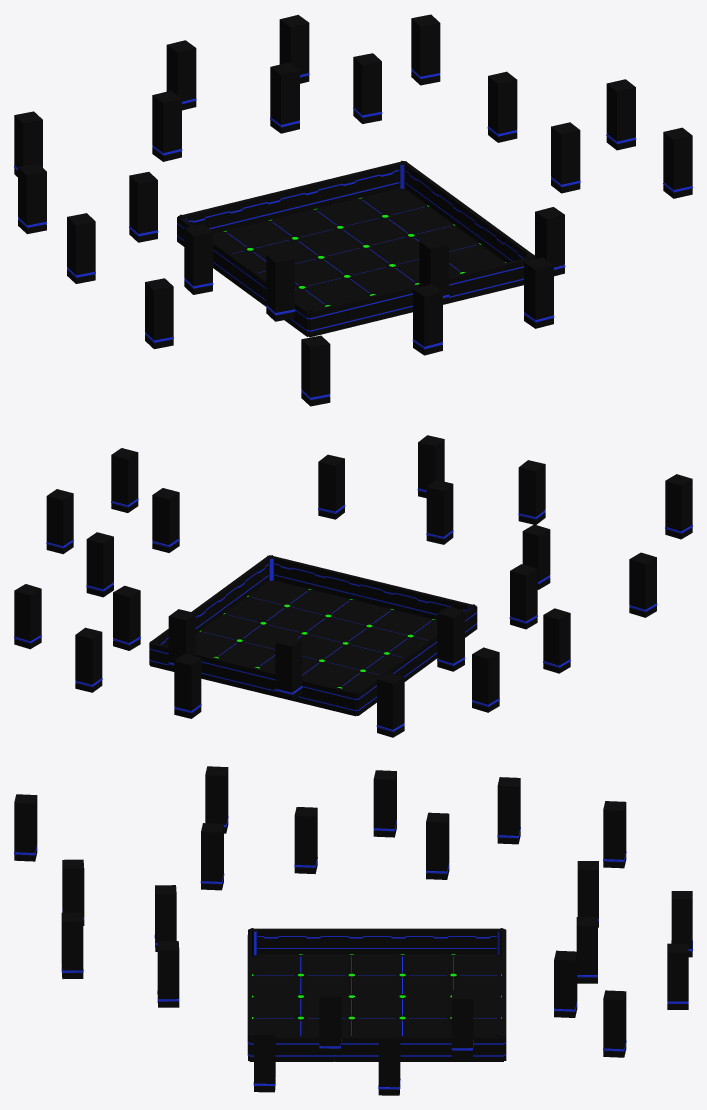
File: arena.obj
3 renders of one model, top to bottom at view 1: azimuth 30°, elevation 25°; view 2: azimuth 150°, elevation 25°; view 3: azimuth 270°, elevation 25°, orthographic. The views are drawn at different scales.
Parts seen in each view (by area): view 1: Floor_Piece, Wall_Piece.001, Wall_Piece.003, Wall_Piece.004, Wall_Piece.002, pillar.005, pillar.009, pillar.010, pillar, pillar.004, pillar.003, pillar.006 (+15 smaller); view 2: Floor_Piece, Wall_Piece.003, Wall_Piece.001, Wall_Piece.004, Wall_Piece.002, pillar.015, pillar.019, pillar.012, pillar.013, pillar.016, pillar.018, pillar.002 (+15 smaller); view 3: Floor_Piece, Wall_Piece.002, Wall_Piece.004, pillar.013, pillar.018, pillar.015, pillar.021, pillar.014, pillar.016, pillar.020, pillar.012, pillar.017 (+15 smaller).
Part boxes in pixels (<box>): Floor_Piece: <box>213,188,505,309</box>; Wall_Piece.001: <box>178,162,399,233</box>; Wall_Piece.003: <box>309,257,534,337</box>; Wall_Piece.004: <box>405,162,534,262</box>; Wall_Piece.002: <box>177,216,308,336</box>; pillar.005: <box>606,79,636,150</box>; pillar.009: <box>524,257,554,328</box>; pillar.010: <box>412,284,442,355</box>; pillar: <box>152,90,182,161</box>; pillar.004: <box>487,71,517,142</box>; pillar.003: <box>270,62,299,133</box>; pillar.006: <box>663,127,692,198</box>; Floor_Piece: <box>195,580,437,690</box>; Wall_Piece.003: <box>273,556,476,619</box>; Wall_Piece.001: <box>149,643,356,716</box>; Wall_Piece.004: <box>149,556,268,664</box>; Wall_Piece.002: <box>356,606,477,715</box>; pillar.015: <box>437,606,465,671</box>; pillar.019: <box>629,552,657,617</box>; pillar.012: <box>509,564,537,629</box>; pillar.013: <box>543,608,570,673</box>; pillar.016: <box>376,672,404,737</box>; pillar.018: <box>665,474,692,539</box>; pillar.002: <box>75,627,102,692</box>; Floor_Piece: <box>252,954,501,1060</box>; Wall_Piece.002: <box>255,928,498,954</box>; Wall_Piece.004: <box>249,1036,503,1061</box>; pillar.013: <box>373,770,396,837</box>; pillar.018: <box>14,794,37,861</box>; pillar.015: <box>426,812,449,879</box>; pillar.021: <box>603,990,626,1057</box>; pillar.014: <box>497,777,520,844</box>; pillar.016: <box>603,801,626,868</box>; pillar.020: <box>554,950,577,1017</box>; pillar.012: <box>294,807,317,874</box>; pillar.017: <box>200,823,224,890</box>.
Size of the model in its own units: 152 by 26.87 by 160.
